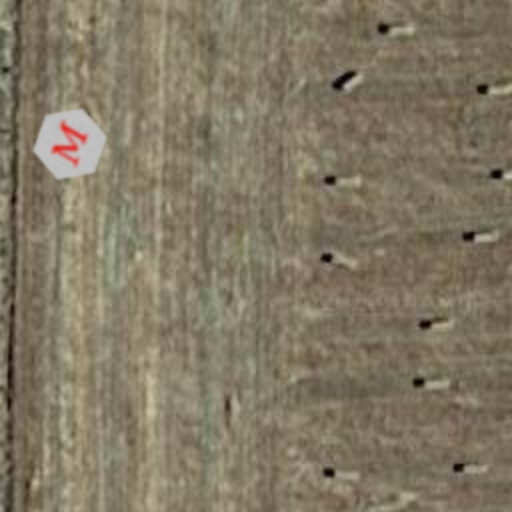hexagon: (20, 94, 120, 194)
